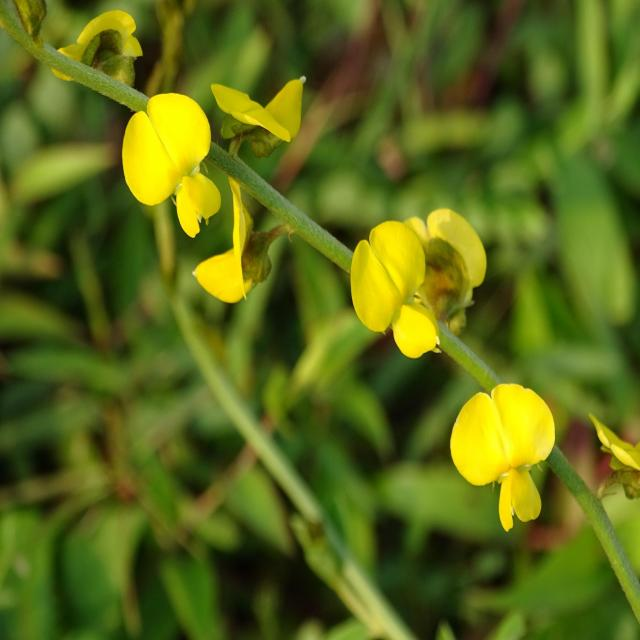organic waste: (337, 201, 491, 341), (109, 87, 230, 242), (438, 384, 566, 525)
